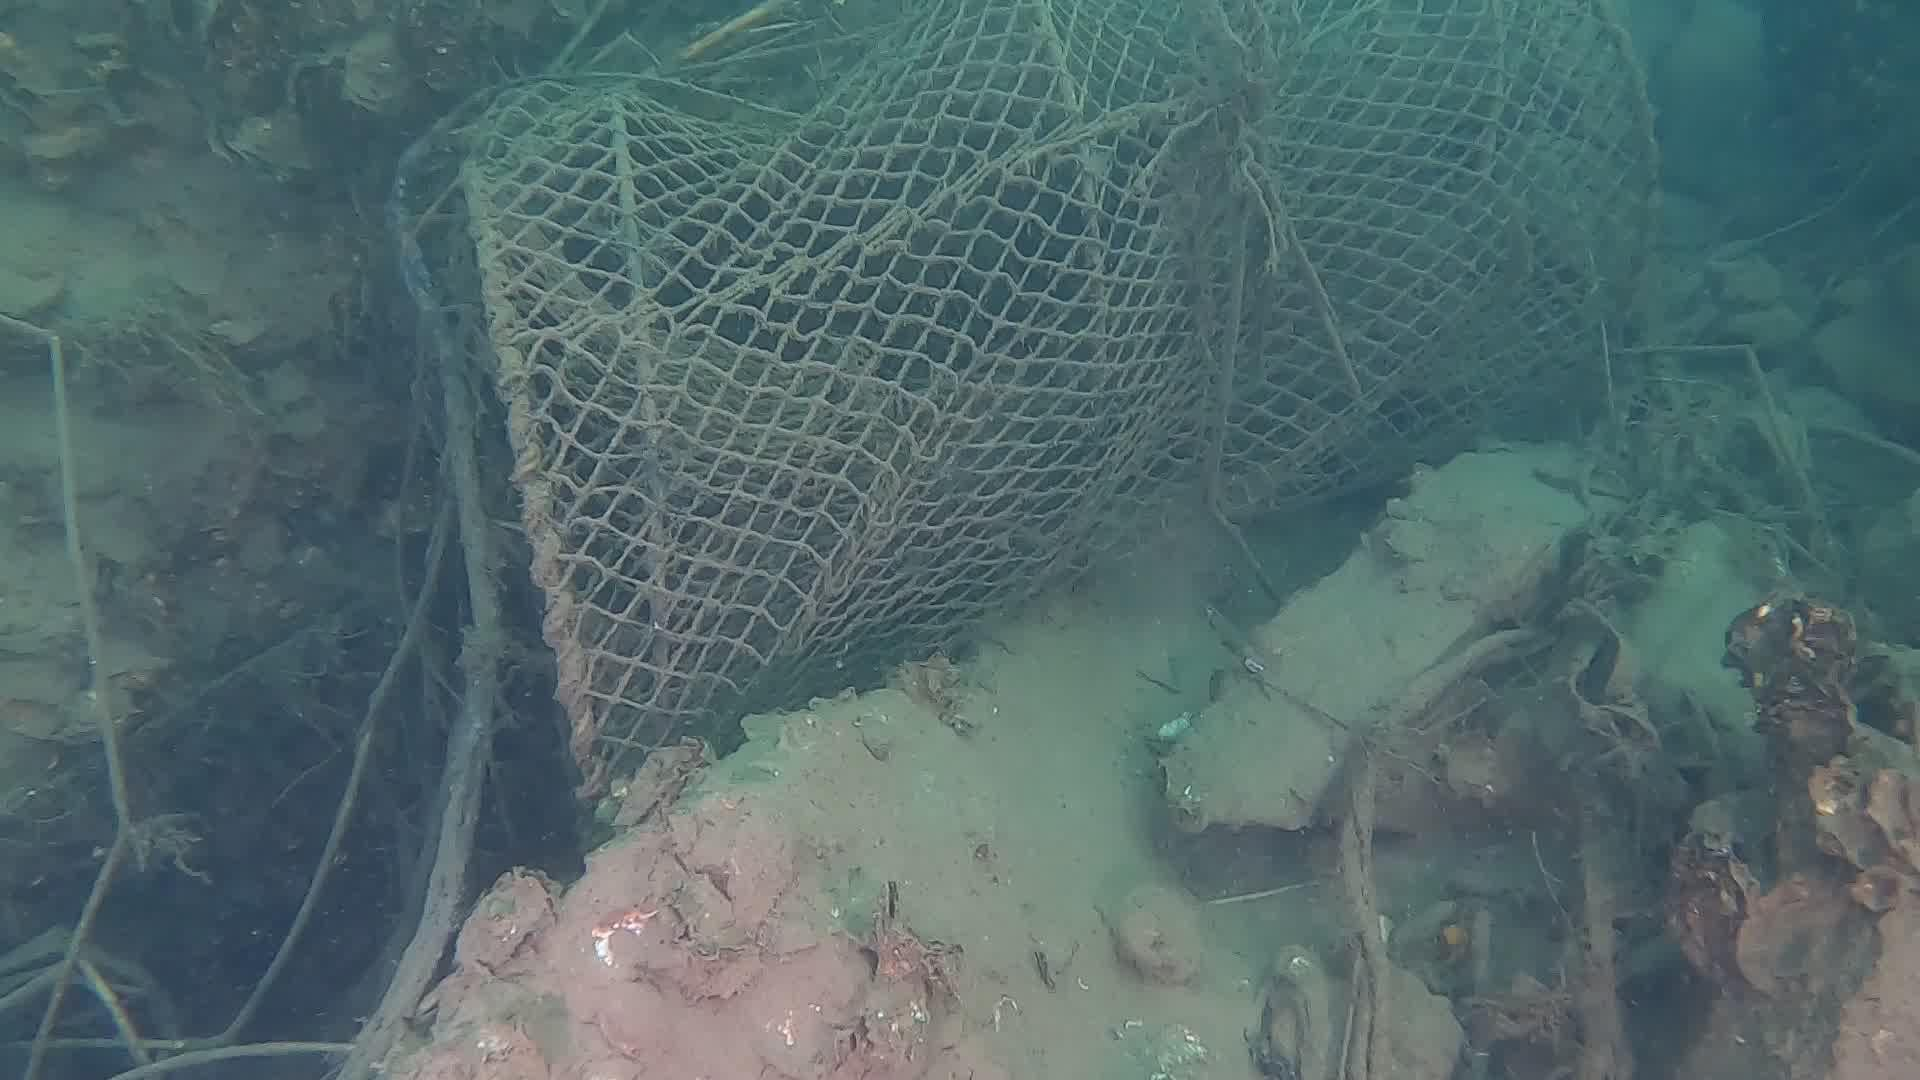spring fish trap: (458, 0, 1659, 799)
